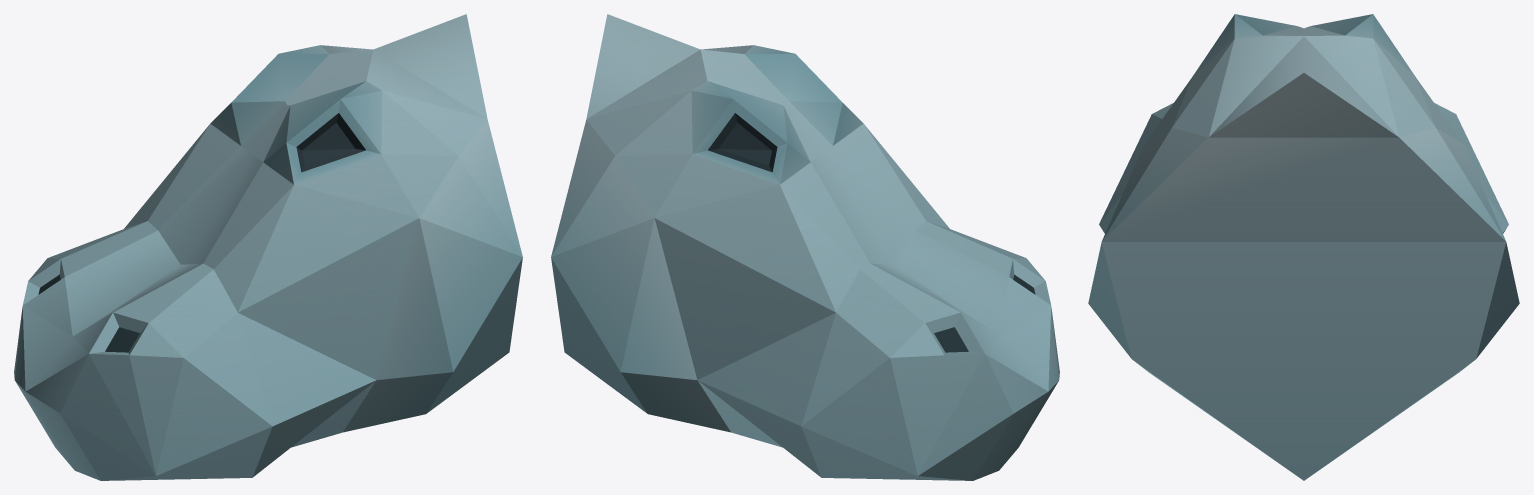
File: SM_Hippo_head.fbx
The picture shows the model from 3 angles, left to right: view 1: azimuth 30°, elevation 25°; view 2: azimuth 150°, elevation 25°; view 3: azimuth 270°, elevation 25°; orthographic projection. The views are drawn at different scales.
Parts seen in each view (by area): view 1: SM_Hippo_head; view 2: SM_Hippo_head; view 3: SM_Hippo_head.
Boxes of the visible parts, x1=… form: SM_Hippo_head: x1=14, y1=14, x2=522, y2=480; SM_Hippo_head: x1=551, y1=14, x2=1059, y2=480; SM_Hippo_head: x1=1088, y1=14, x2=1519, y2=480.
Bounding box in the file's own units: 35.55 × 29.47 × 26.99.
